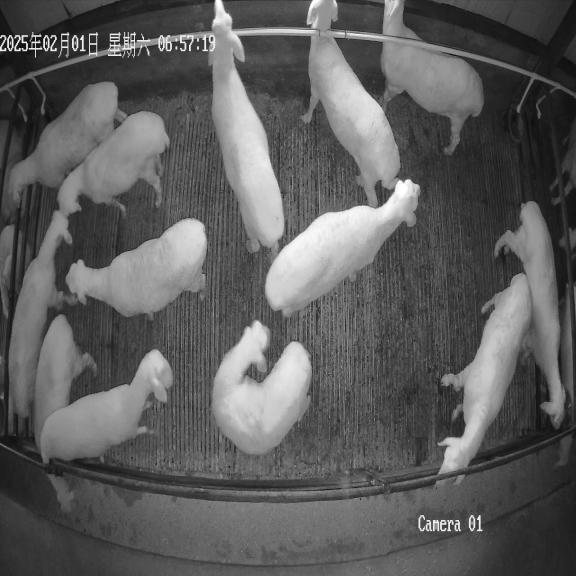eating: (34, 314, 97, 513)
stand: (265, 180, 420, 316), (302, 0, 400, 207), (209, 0, 284, 256), (438, 276, 531, 474), (3, 82, 126, 215), (380, 0, 484, 155), (494, 201, 565, 428), (40, 350, 173, 463), (65, 218, 207, 319), (211, 320, 312, 455), (9, 212, 72, 423), (57, 111, 169, 216)
